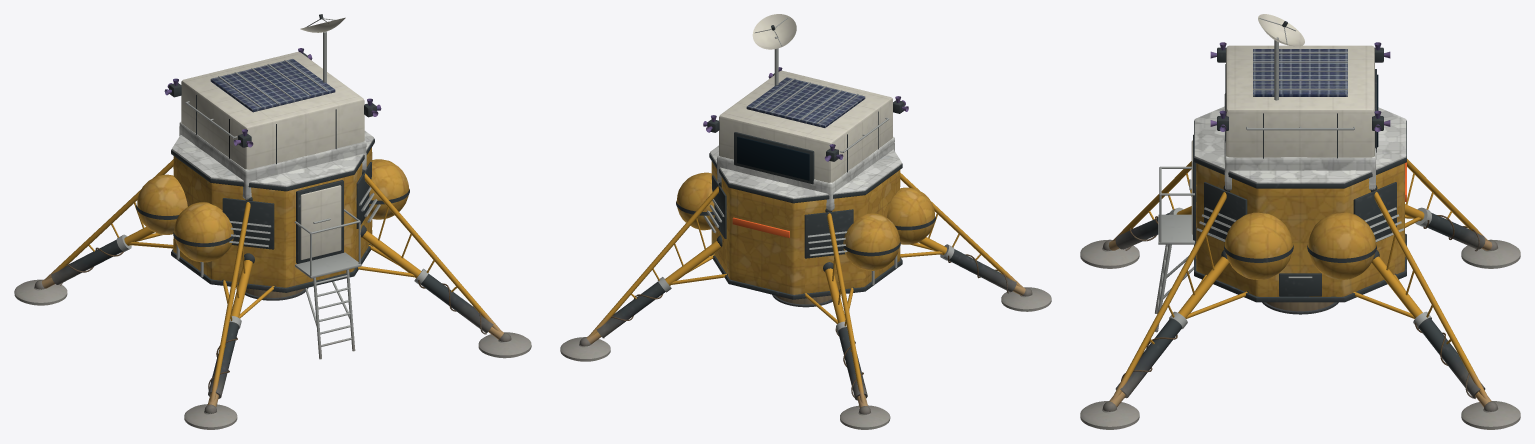
File: survey-lander.glb
3 renders of one model, left to right at view 1: azimuth 30°, elevation 25°; view 2: azimuth 150°, elevation 25°; view 3: azimuth 270°, elevation 25°, orthographic. The views are drawn at different scales.
Visible parts, largest first — view 1: survey_lander; view 2: survey_lander; view 3: survey_lander.
Boxes of the visible parts, x1,y1,x2,y2 form: survey_lander: [14, 14, 531, 429]; survey_lander: [560, 14, 1051, 429]; survey_lander: [1080, 14, 1520, 429].
Size of the model in its own units: 7.4 by 6.35 by 7.4.
2 materials, 2 textured.
